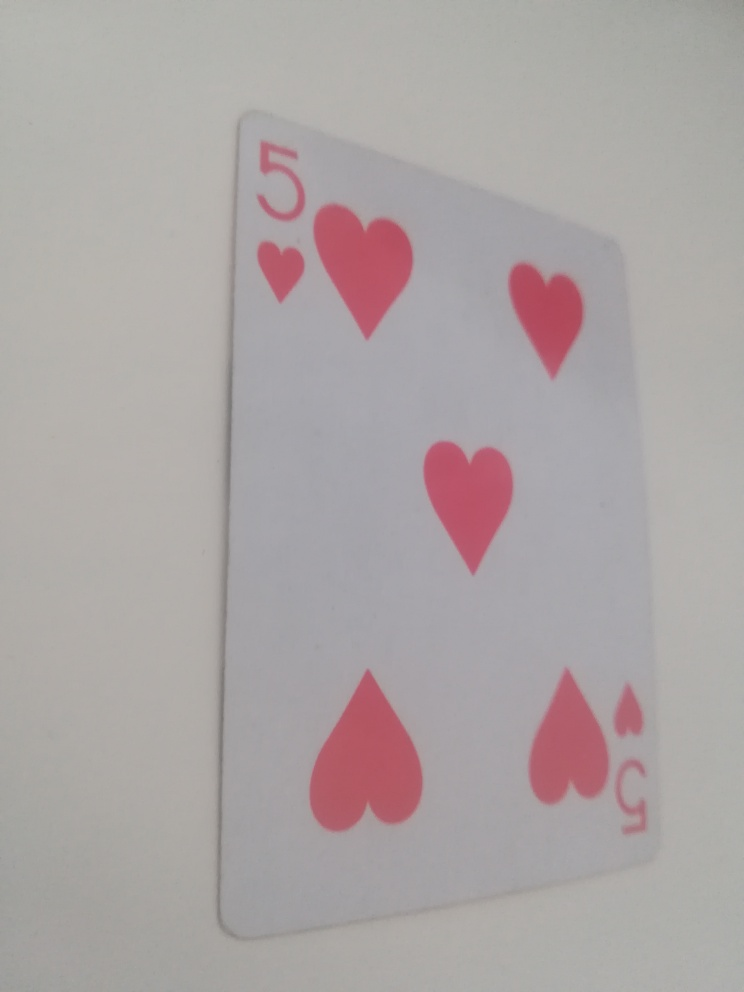5H: (235, 138, 322, 313)
